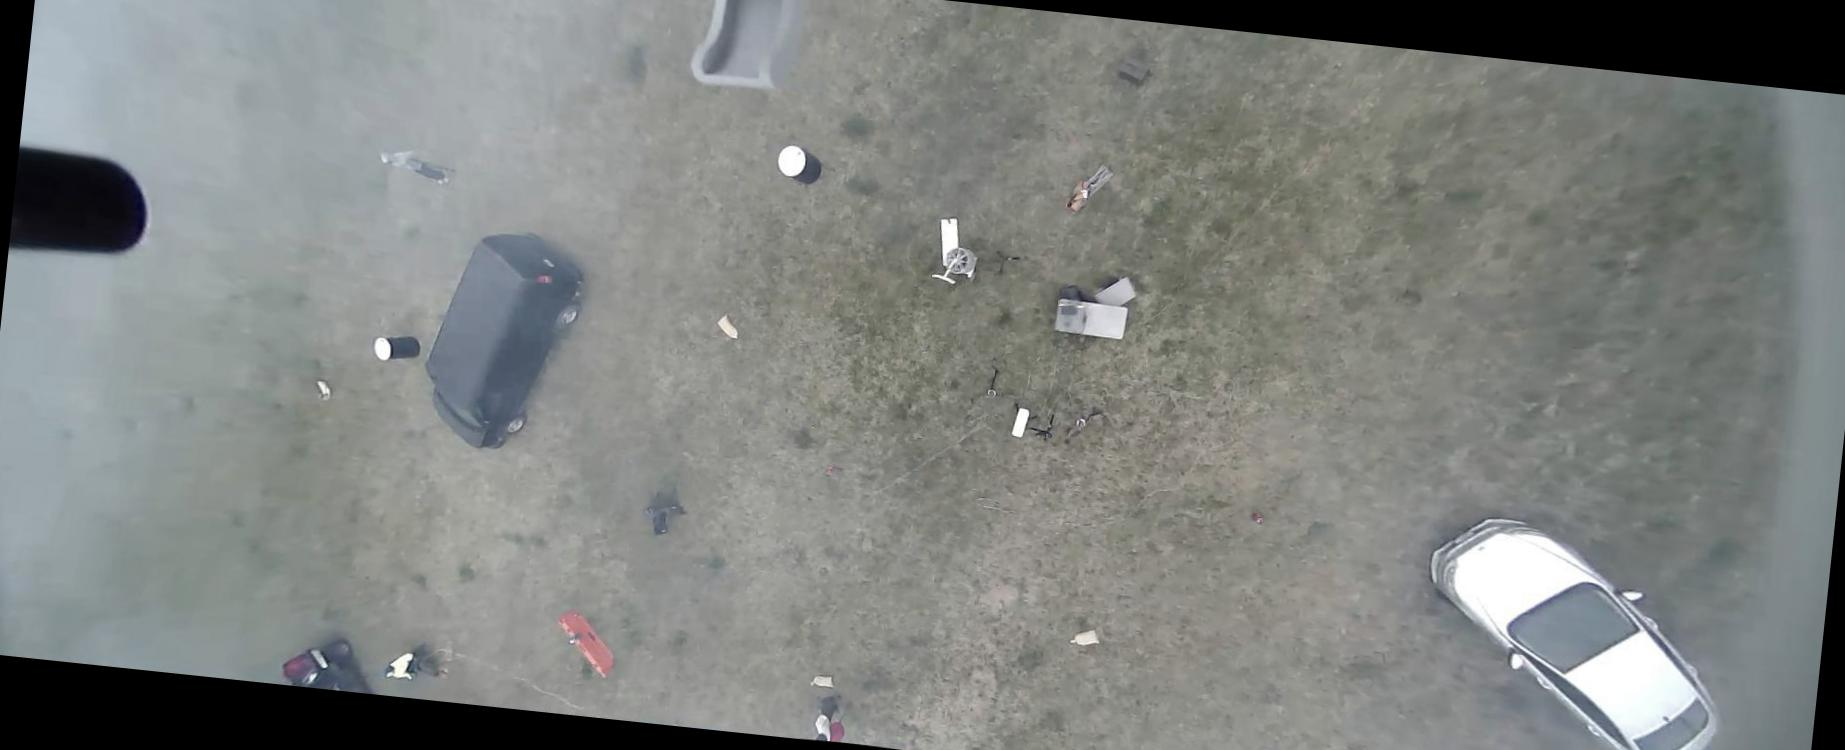vehicle: (1408, 509, 1741, 749), (415, 220, 591, 458), (279, 632, 375, 693)
